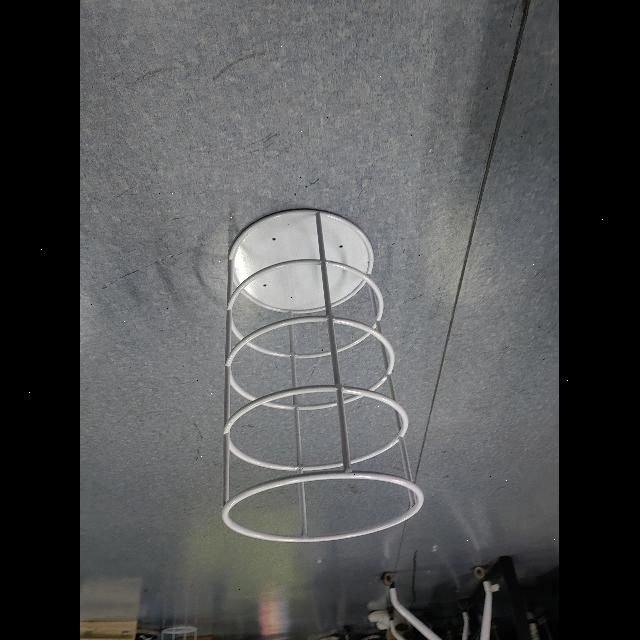S: (210, 202, 430, 550)
